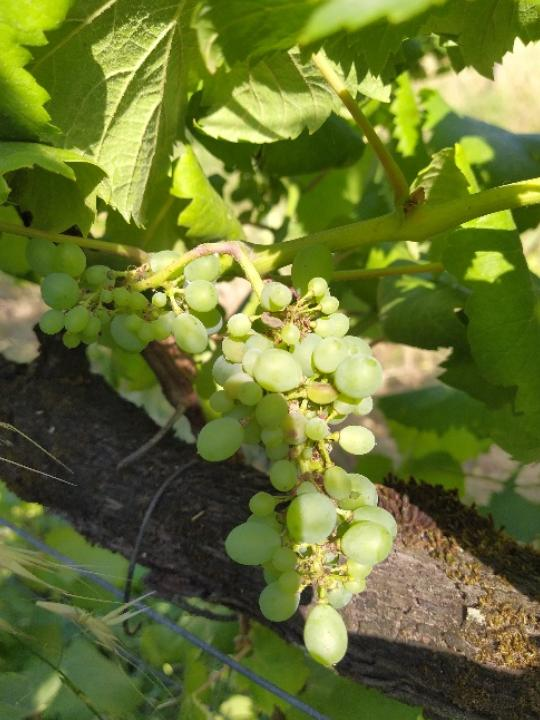grape: (17, 233, 404, 672)
